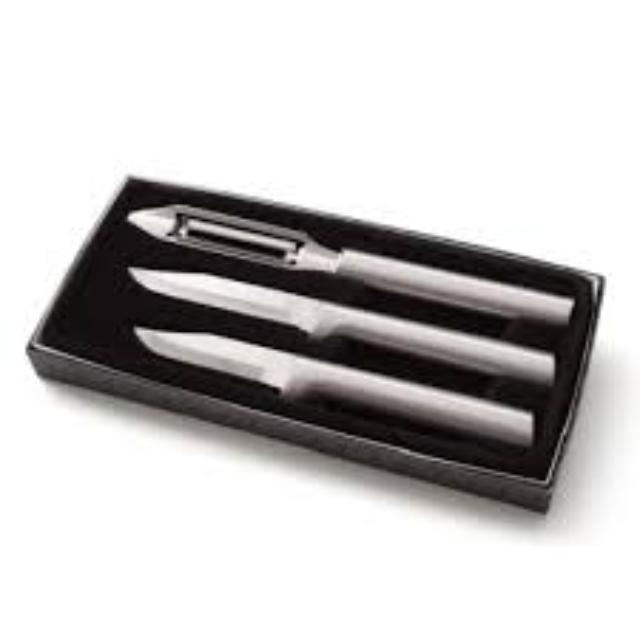knife: (126, 200, 574, 324), (125, 262, 557, 386), (132, 321, 534, 449)
